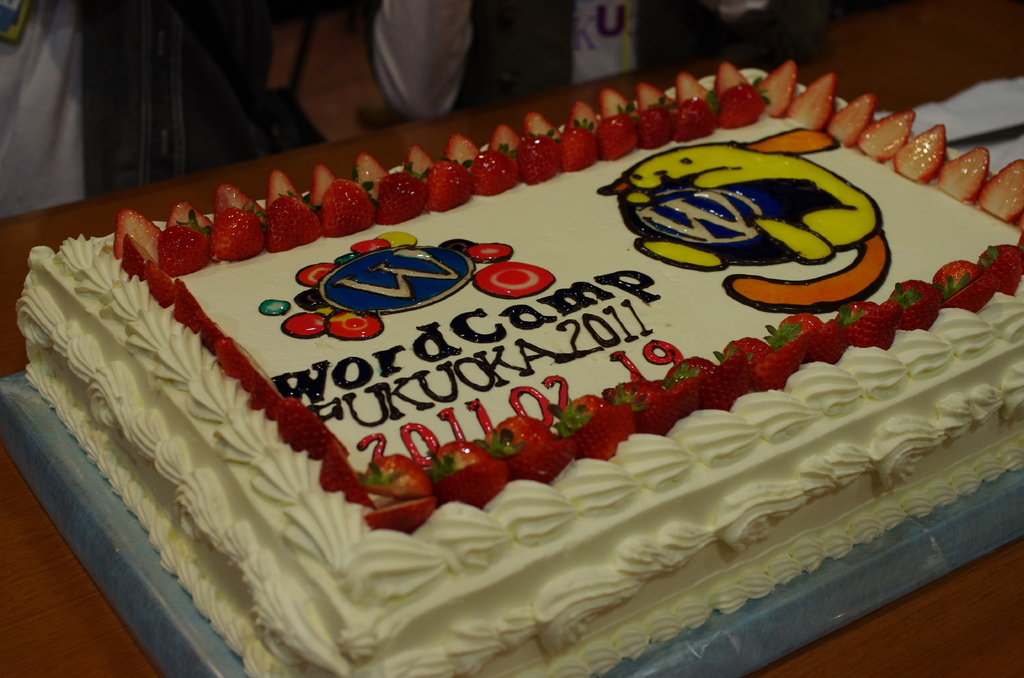person: (0, 0, 324, 222)
